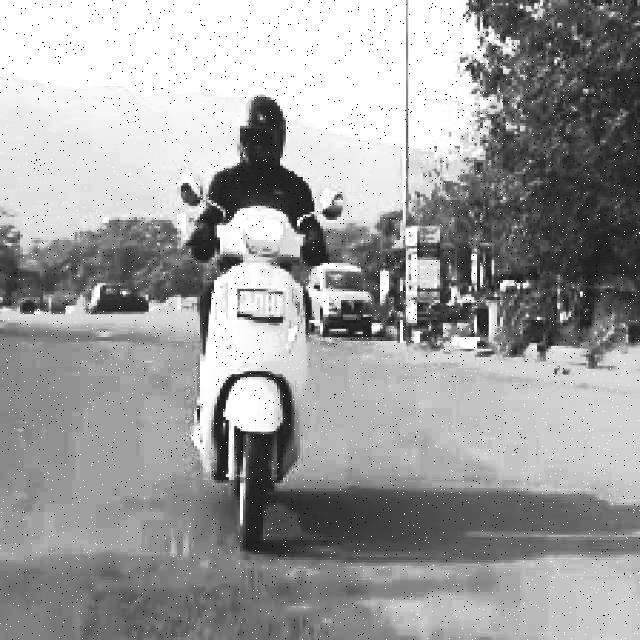Bike: (180, 163, 342, 546)
